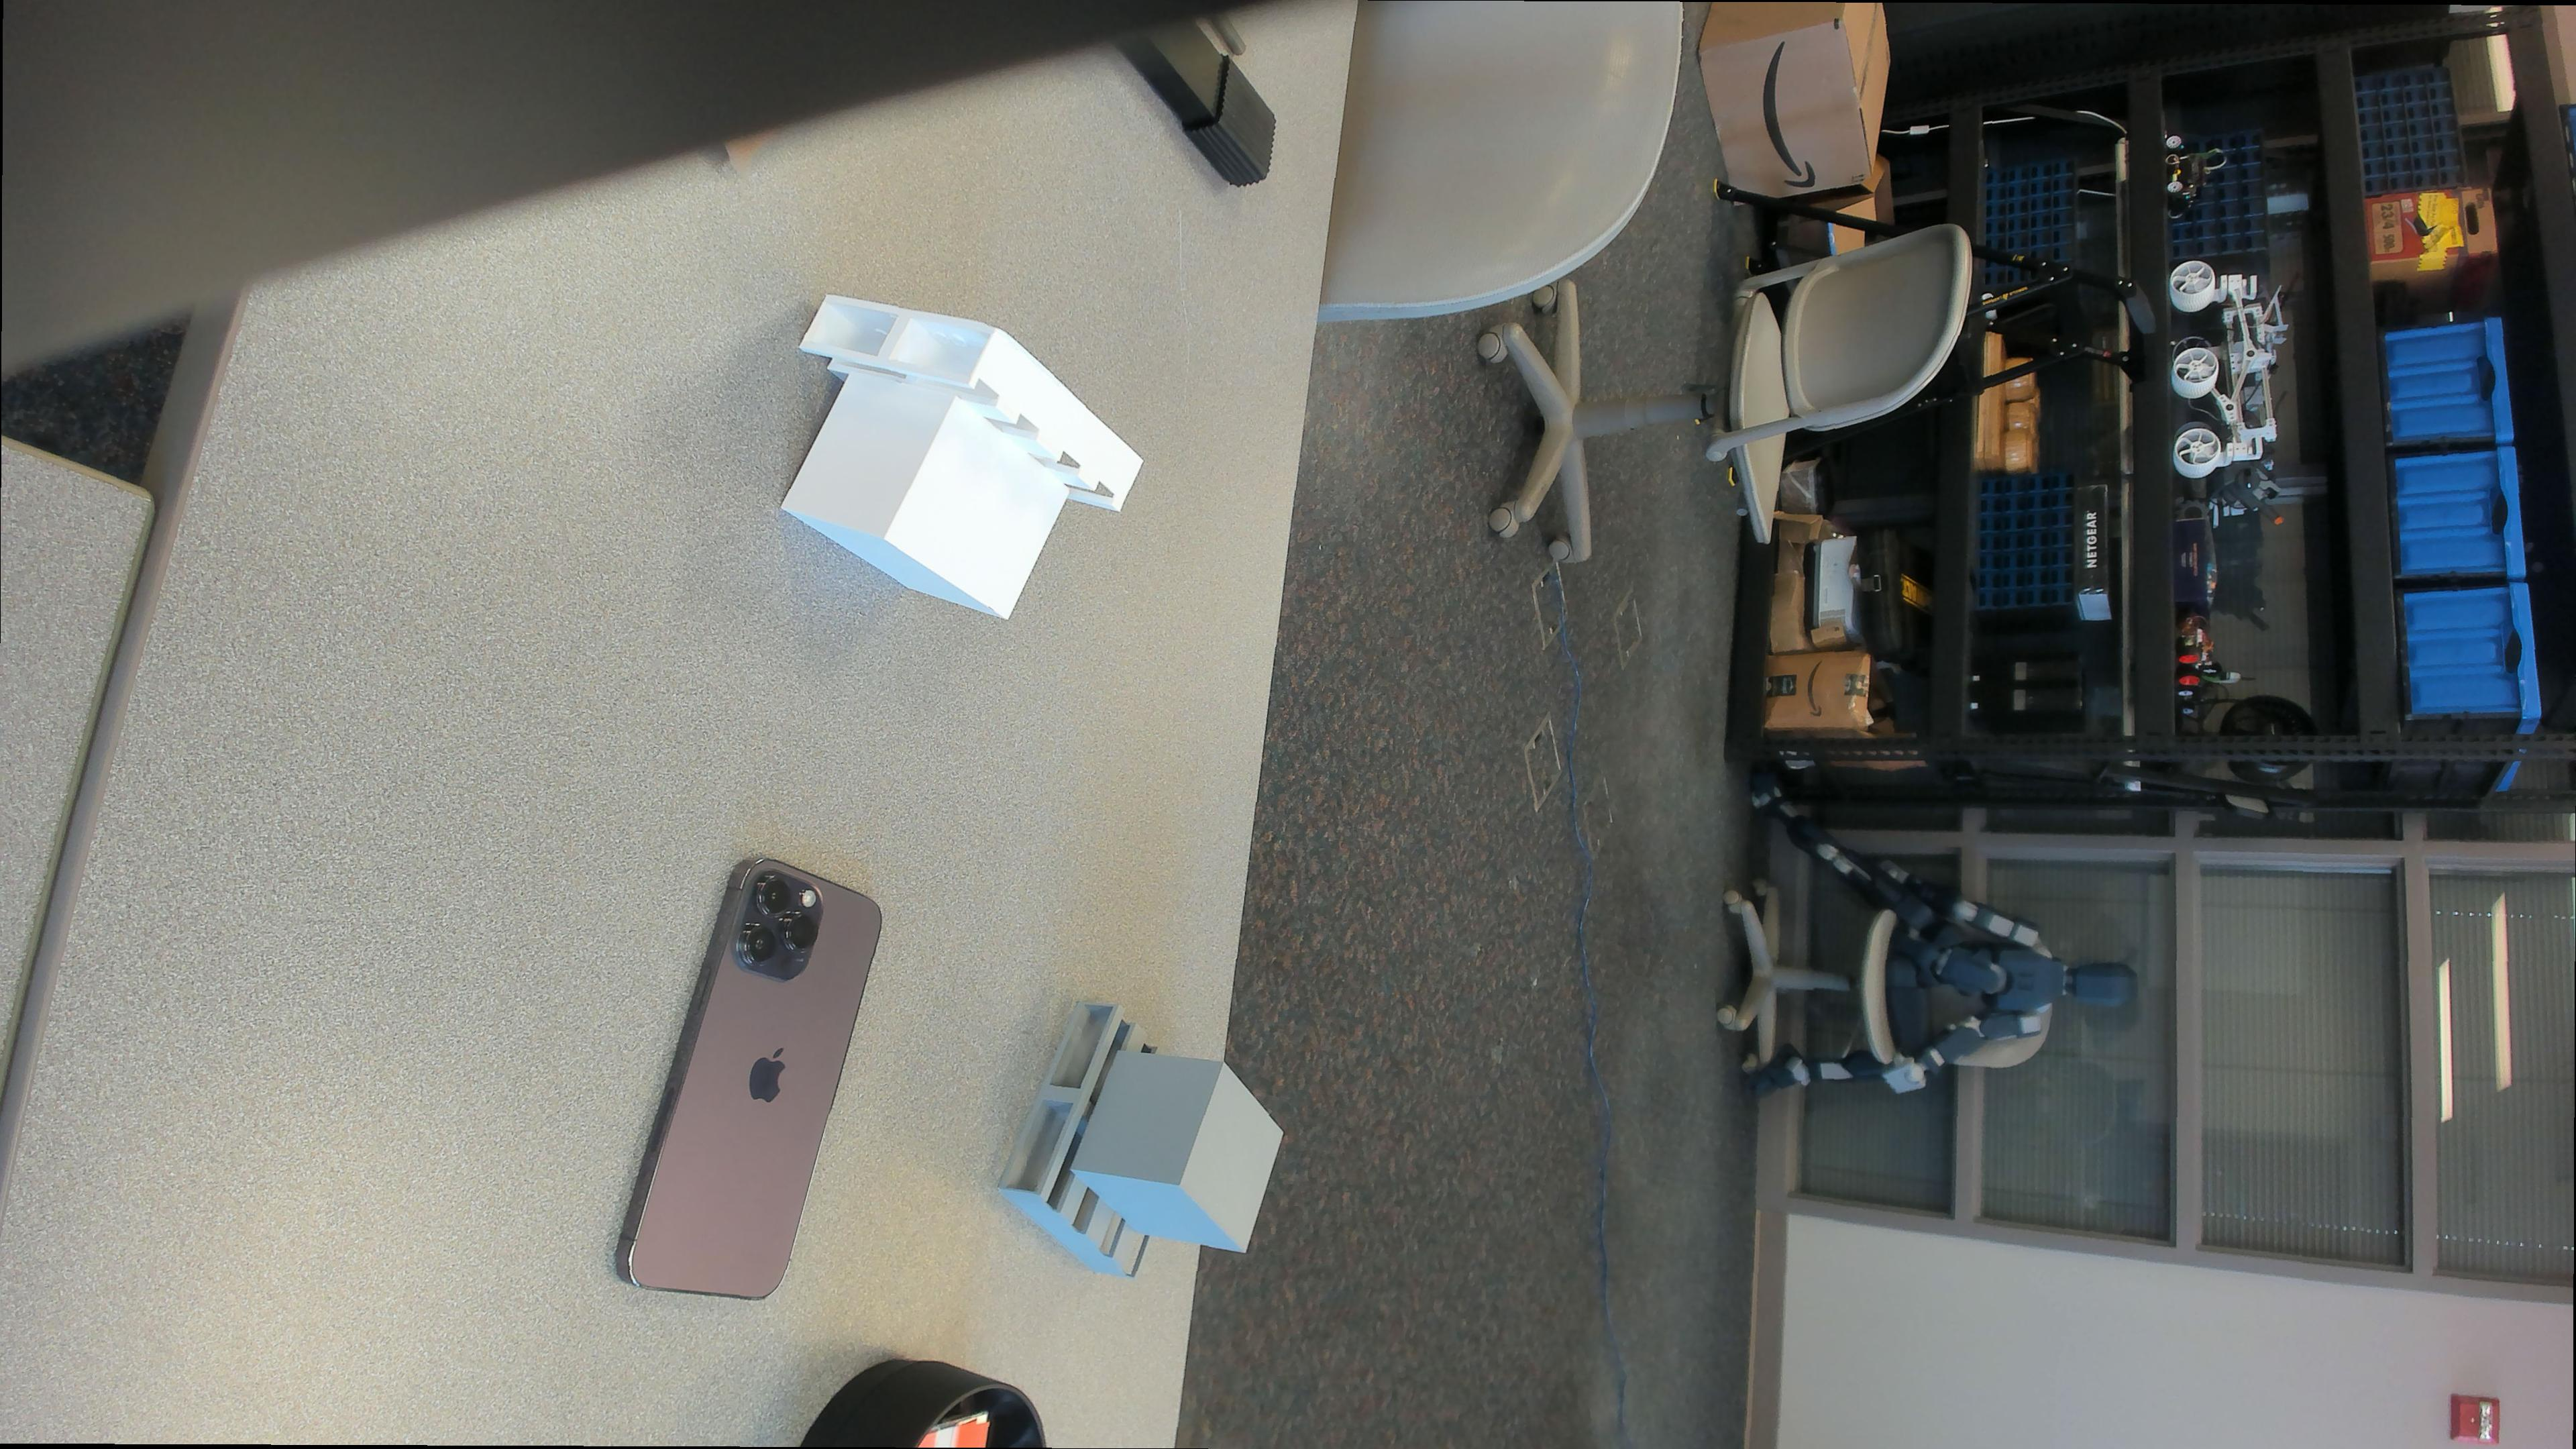grey pallet: (989, 980, 1290, 1315)
white pallet: (773, 283, 1154, 646)
